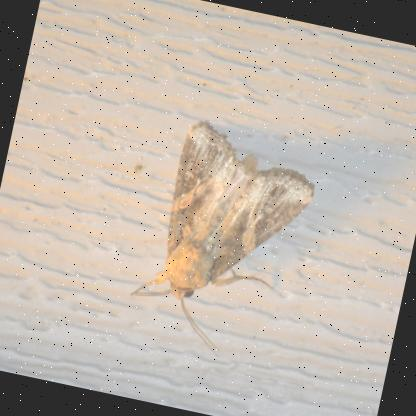Fall Armyworm Moth: (119, 110, 328, 372)
